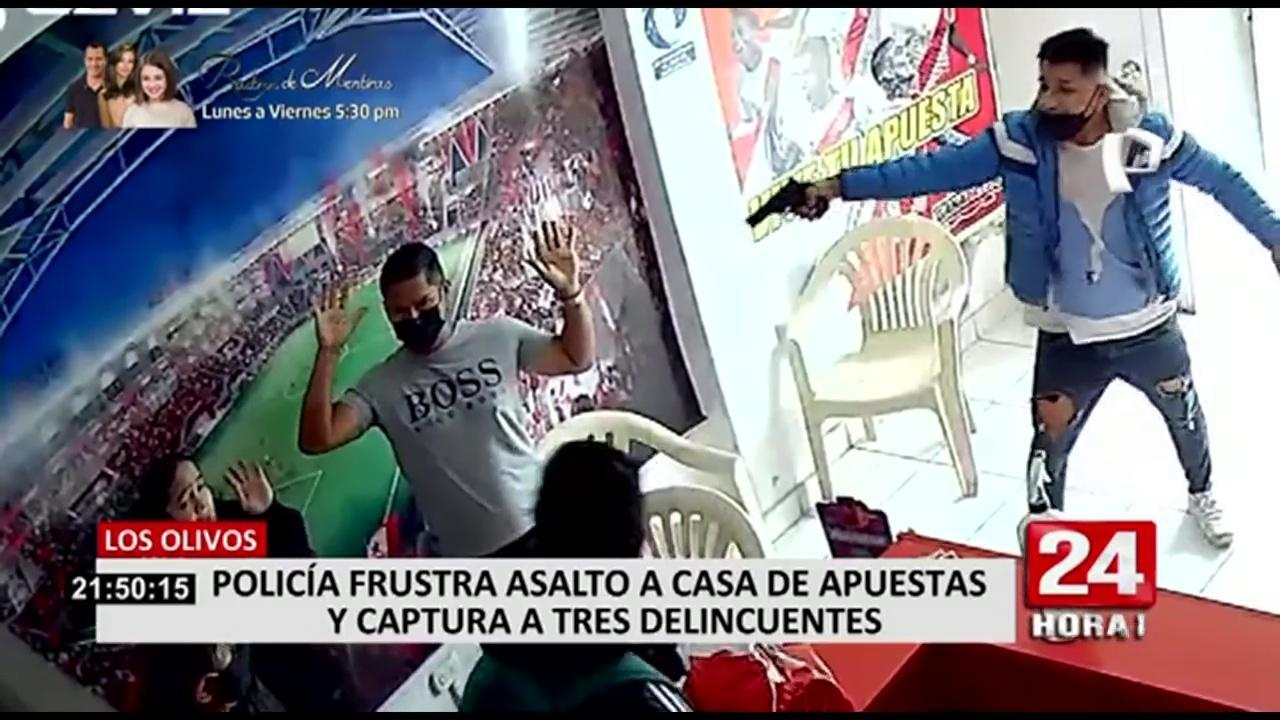Guns perspective: (729, 156, 841, 246)
